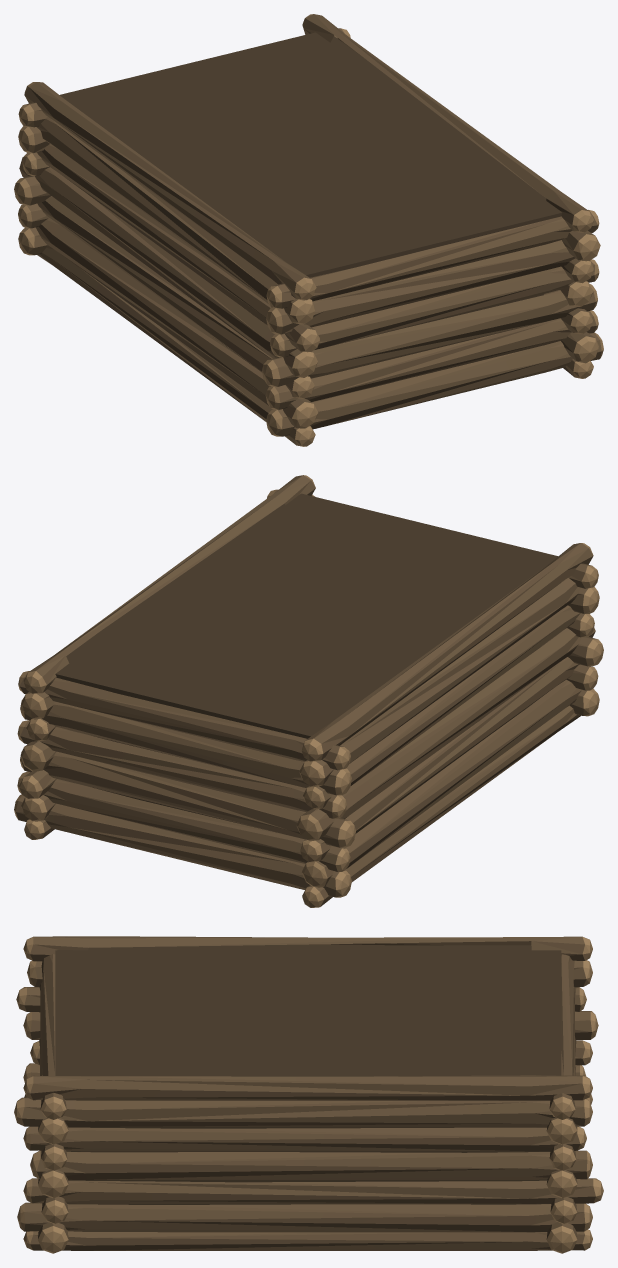
3 renders of one model, top to bottom at view 1: azimuth 30°, elevation 25°; view 2: azimuth 150°, elevation 25°; view 3: azimuth 270°, elevation 25°, orthographic. The views are drawn at different scales.
Parts seen in each view (by area): view 1: SM_Bld_Base_Long_01; view 2: SM_Bld_Base_Long_01; view 3: SM_Bld_Base_Long_01.
Part boxes in pixels (x1=…): SM_Bld_Base_Long_01: x1=14, y1=14, x2=603, y2=446; SM_Bld_Base_Long_01: x1=14, y1=475, x2=603, y2=907; SM_Bld_Base_Long_01: x1=14, y1=936, x2=603, y2=1253.
Size of the model in its own units: 4.95 by 2.38 by 7.33.
1 material, 1 textured.
